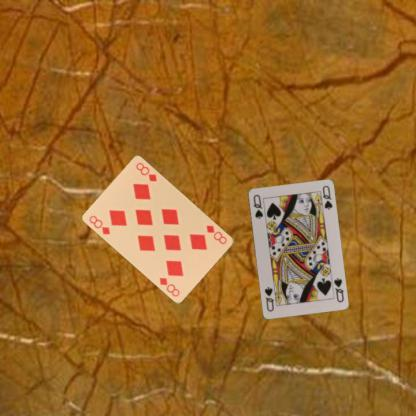8d: (86, 213, 112, 236), (204, 223, 228, 245)
Qs: (331, 275, 345, 303), (251, 192, 264, 220)
